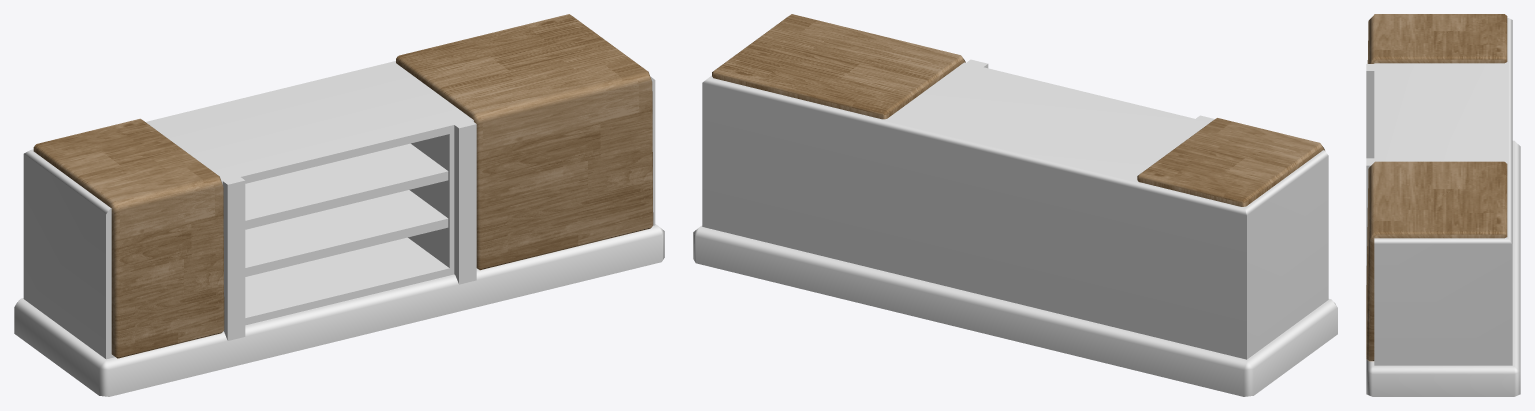
The model's file is wall cabinet_017.fbx.
3 renders of one model, left to right at view 1: azimuth 30°, elevation 25°; view 2: azimuth 150°, elevation 25°; view 3: azimuth 270°, elevation 25°, orthographic. The views are drawn at different scales.
Parts seen in each view (by area): view 1: wall cabinet_017; view 2: wall cabinet_017; view 3: wall cabinet_017.
Boxes of the visible parts, x1,y1,x2,y2 form: wall cabinet_017: (14,14,664,396); wall cabinet_017: (693,14,1337,396); wall cabinet_017: (1366,14,1520,396).
Size of the model in its own units: 354 by 100 by 114.
